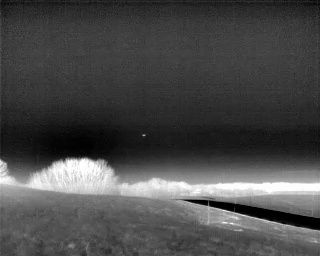AIRPLANE: (141, 132, 147, 138)
